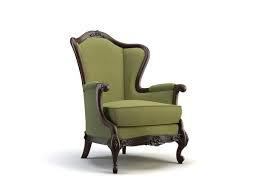chair: (54, 17, 203, 180)
